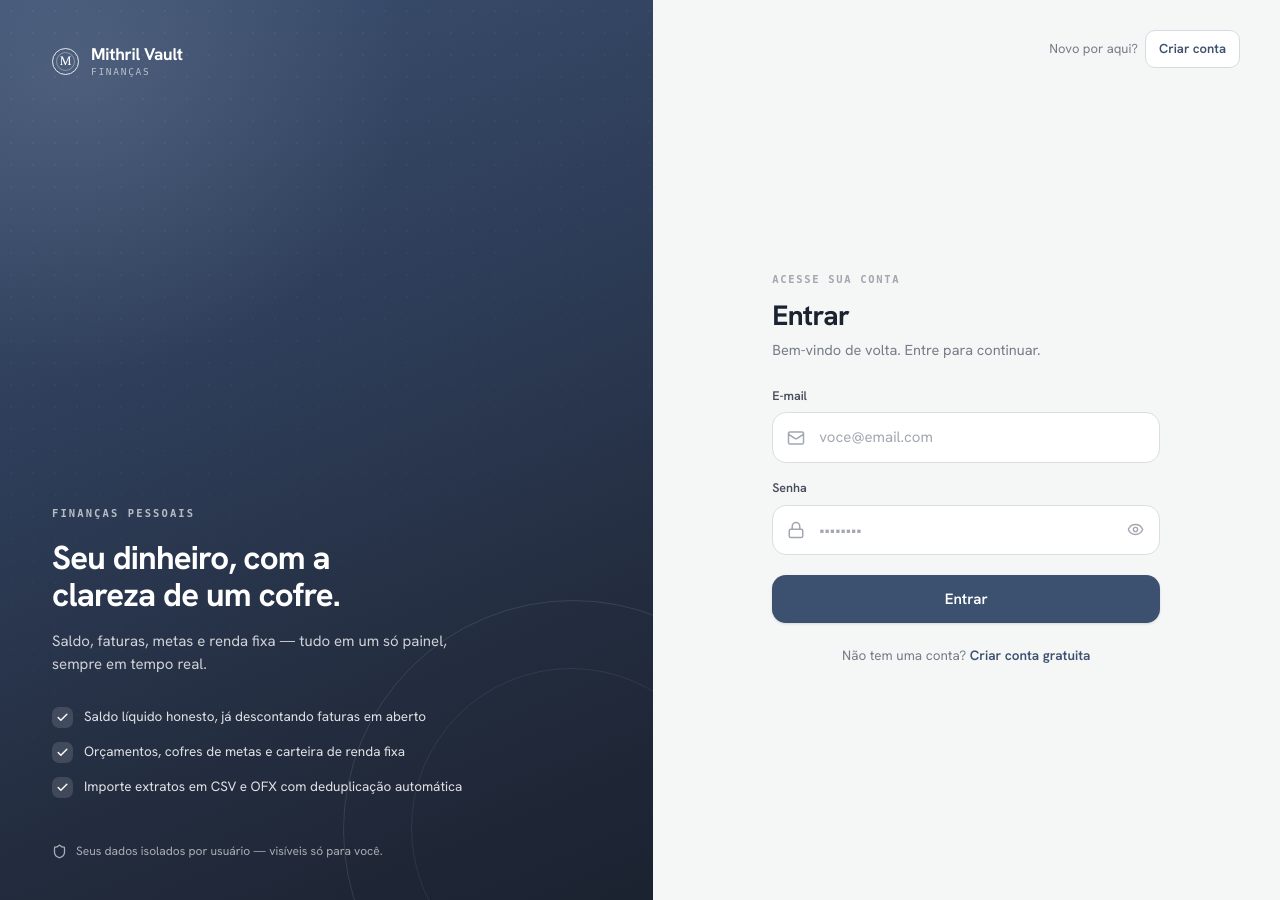
Test case: LoginForm › shows password validation error when password is too short
The image size is (1280, 900).
Type "user@test.com" into the field with placeholder "voce@email.com" at [982, 438], box 805,413 -> 1159,462
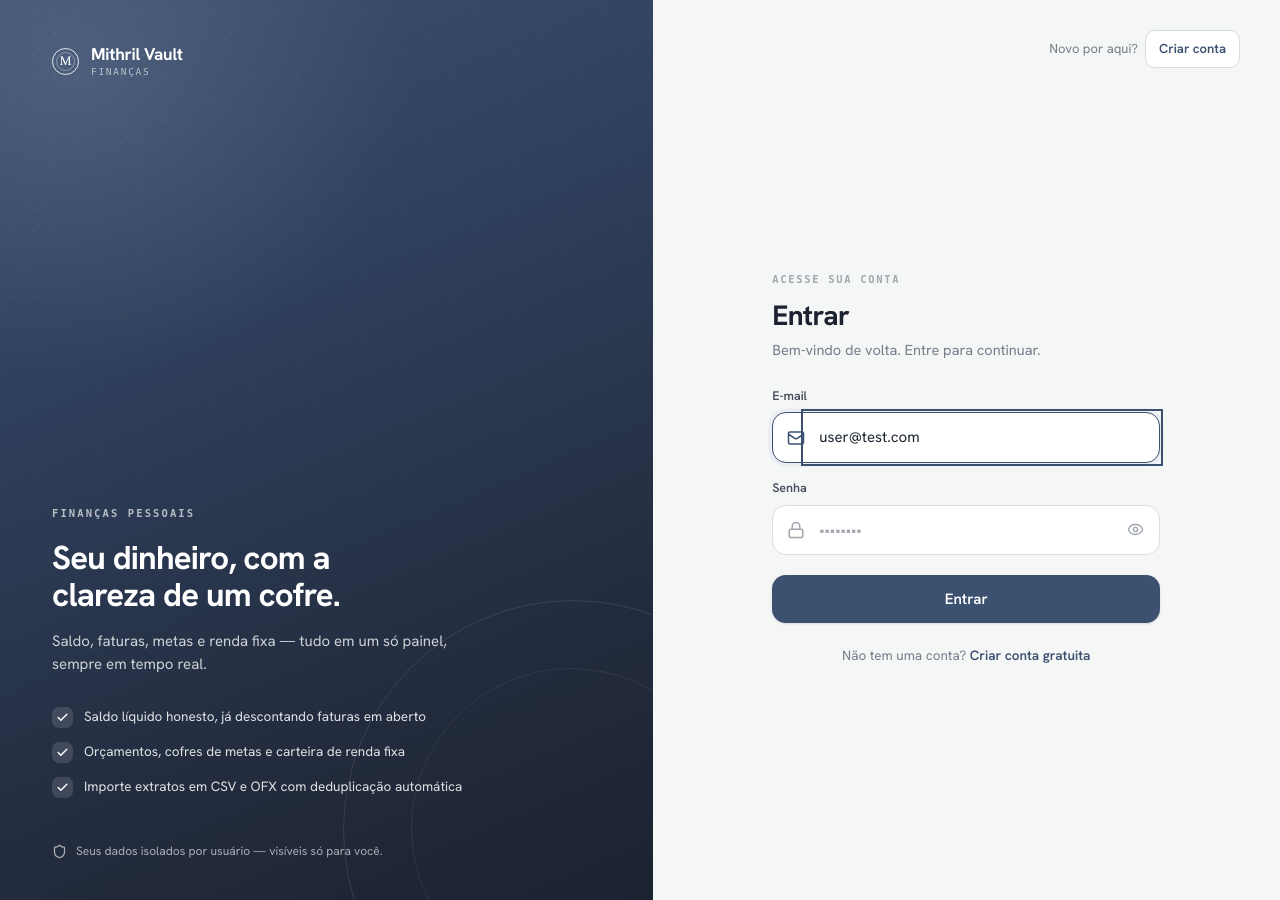
Type "short" into the password field with placeholder "••••••••" at [960, 530], box 805,506 -> 1115,554
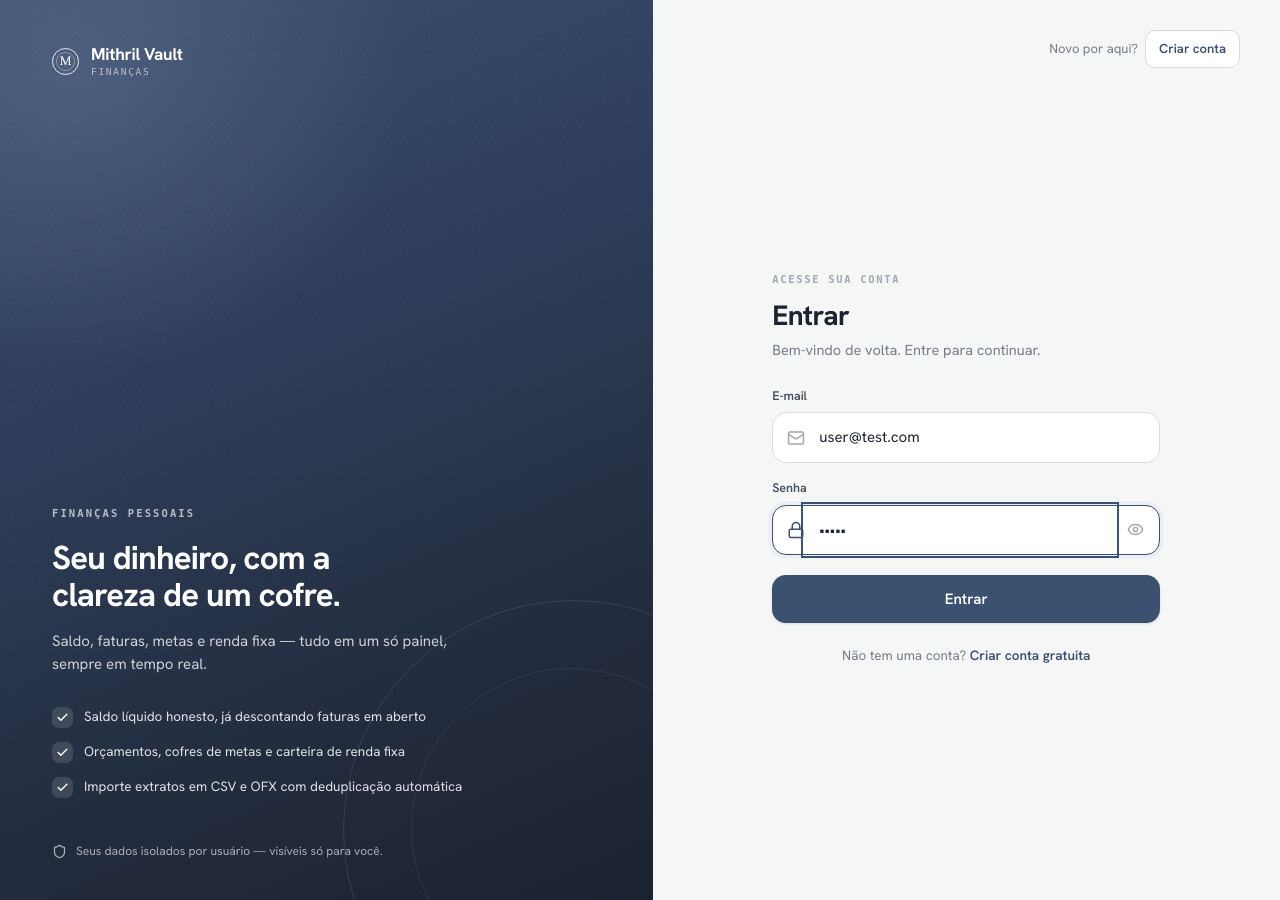
Click the button "Entrar" at [966, 599], box 772,575 -> 1160,623
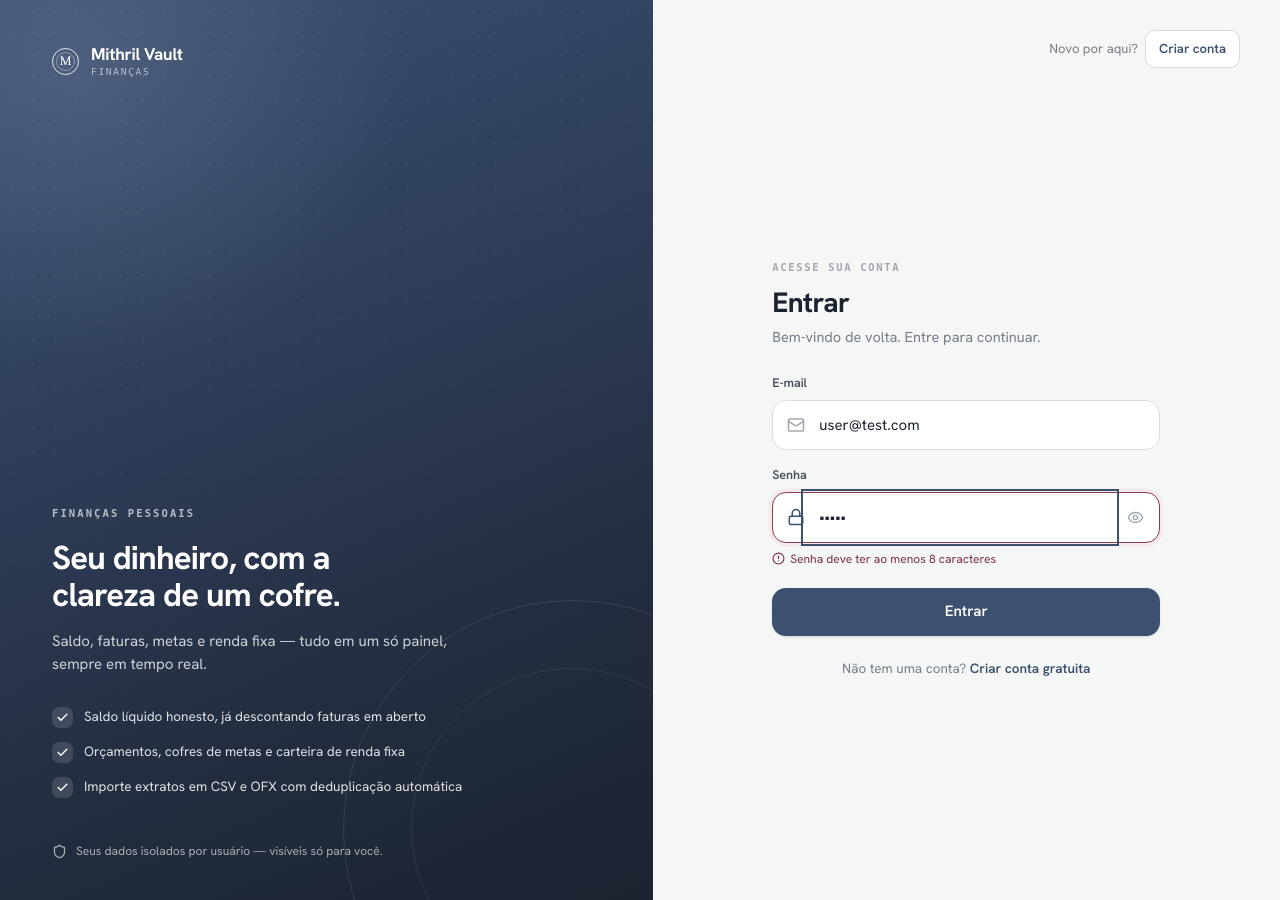
Now the text "Senha deve ter ao menos 8 caracteres" is shown, box 772,550 -> 996,566
